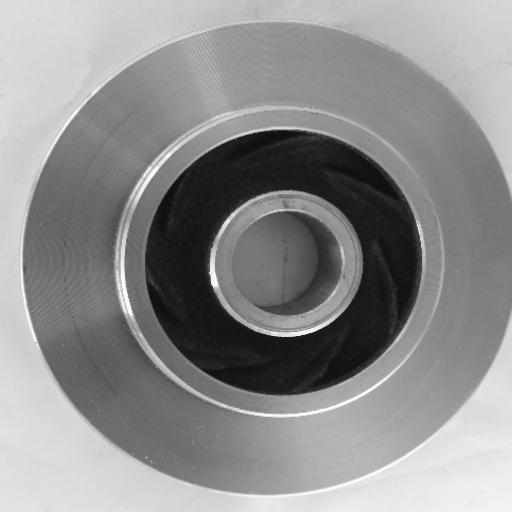polished_casting: (23, 20, 512, 499)
